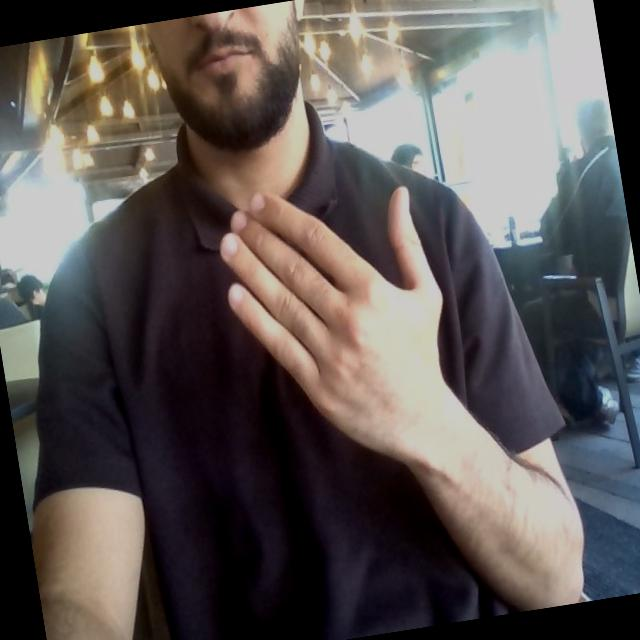Hand: (220, 188, 449, 460)
